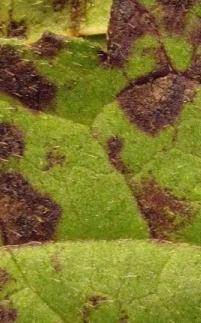Tomato Septoria leaf spot: (0, 2, 201, 323), (0, 0, 201, 194)
